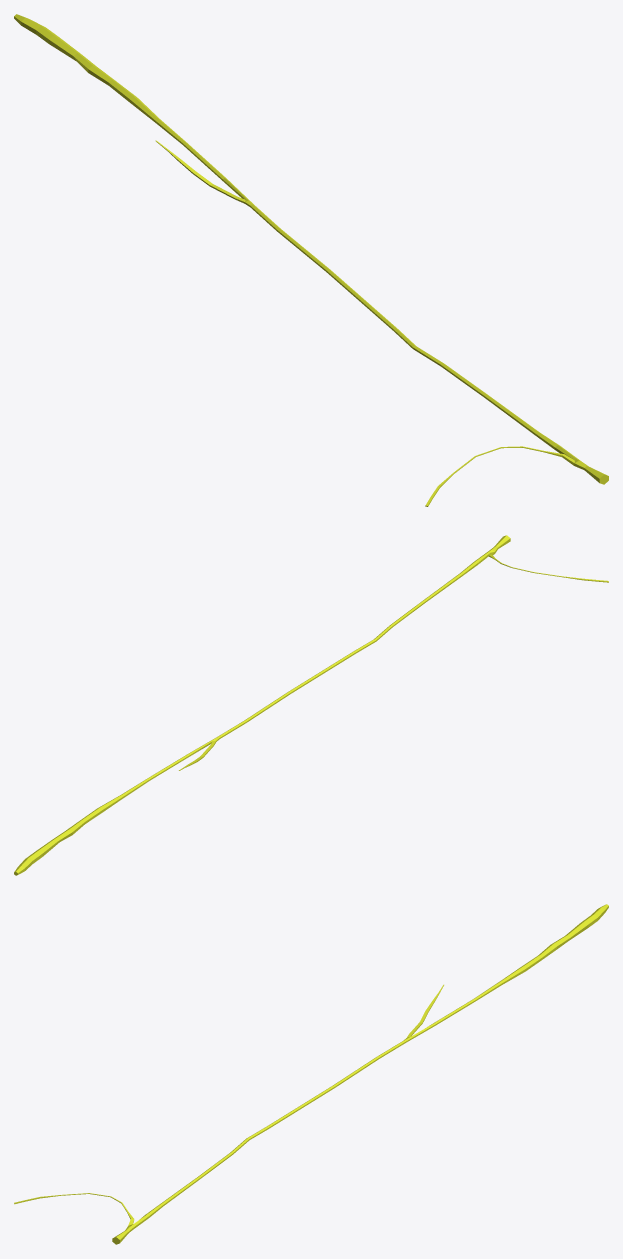
Rendered from Heina2obj1.fbx.
3 views of the same model, one above another, from view 1: azimuth 30°, elevation 25°; view 2: azimuth 150°, elevation 25°; view 3: azimuth 330°, elevation 25° (orthographic). The views are drawn at different scales.
Parts seen in each view (by area): view 1: Cube; view 2: Cube; view 3: Cube.
Part boxes in pixels (x1,y1,x2,y2): Cube: (14, 14, 608, 506); Cube: (14, 535, 608, 875); Cube: (14, 904, 608, 1244).
Bounding box in the file's own units: 13.14 × 1.36 × 70.79.
